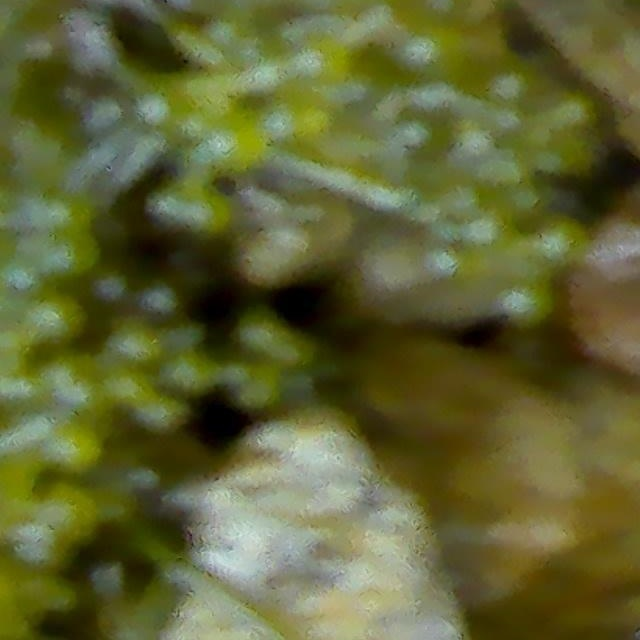SeaGrape: (41, 412, 108, 480), (202, 110, 263, 165), (287, 37, 349, 90)
